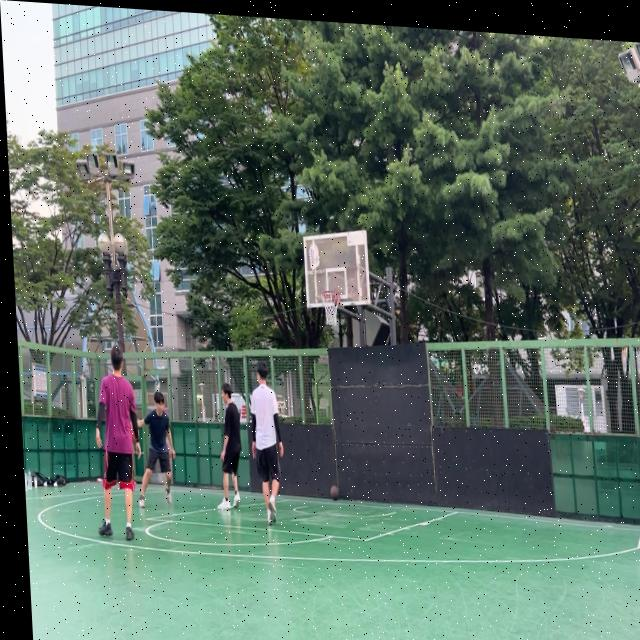basketball: (130, 421, 140, 443), (330, 485, 340, 501)
hoop: (320, 289, 342, 327)
